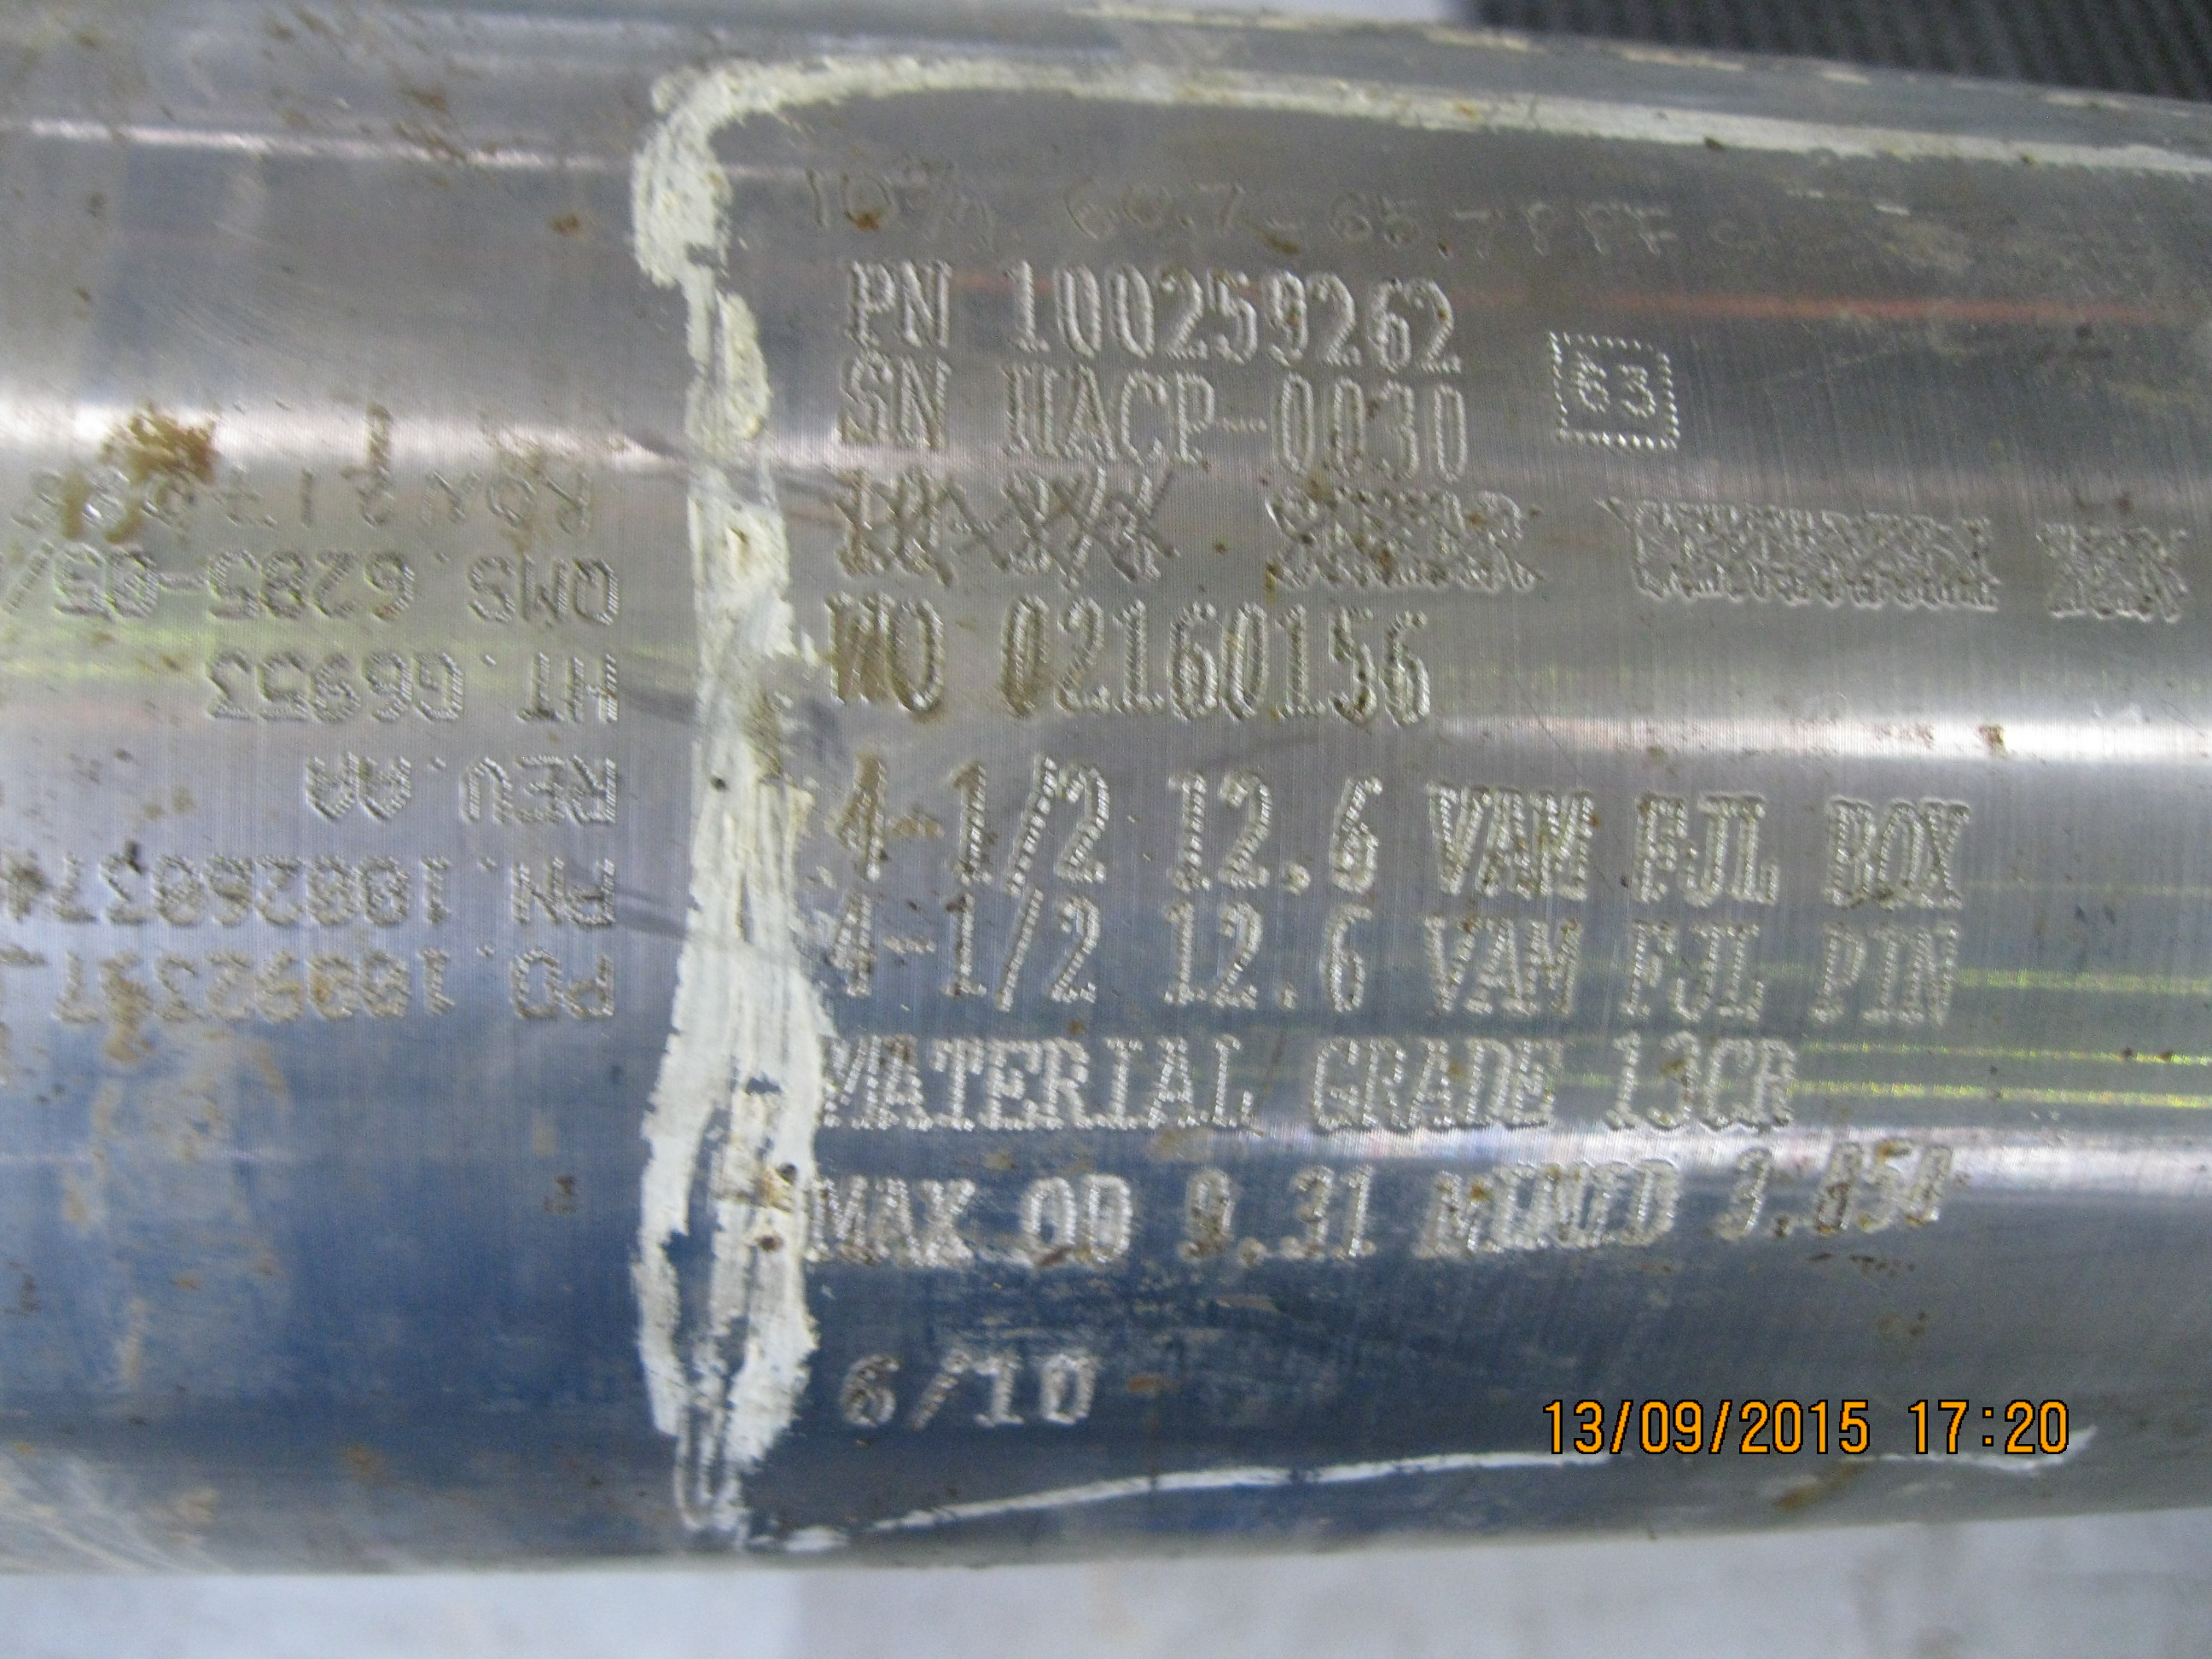character: (812, 877, 890, 1007), (820, 751, 897, 884), (819, 587, 894, 714), (1320, 770, 1390, 897), (1045, 889, 1115, 1014), (993, 591, 1061, 718), (1049, 756, 1115, 884), (1426, 769, 1489, 903), (1531, 782, 1601, 903), (1157, 762, 1216, 901), (1475, 777, 1540, 904), (1209, 890, 1271, 1021), (1217, 591, 1275, 730), (1414, 1162, 1491, 1267), (887, 591, 949, 718), (1416, 908, 1491, 1014), (1627, 786, 1688, 915), (1676, 788, 1742, 906), (1299, 256, 1366, 373), (1522, 911, 1590, 1025), (1324, 591, 1379, 728), (1320, 894, 1385, 1012), (1005, 753, 1059, 894), (1219, 762, 1277, 894), (1611, 913, 1679, 1025), (890, 345, 958, 455), (1716, 913, 1785, 1019), (1170, 598, 1226, 730), (944, 755, 1000, 887), (1925, 788, 1980, 918), (1106, 591, 1167, 709), (810, 1032, 881, 1133), (1733, 782, 1791, 908), (996, 354, 1062, 462), (1205, 249, 1264, 369), (1385, 601, 1442, 723), (890, 253, 961, 350), (911, 1169, 981, 1269), (989, 887, 1045, 1011), (900, 1345, 974, 1439), (1061, 354, 1118, 472), (979, 1033, 1045, 1136), (1825, 788, 1876, 922), (993, 253, 1055, 361), (1109, 361, 1174, 465), (1909, 918, 1966, 1035), (836, 343, 895, 457), (1057, 592, 1113, 713), (923, 1030, 984, 1140), (1752, 1032, 1818, 1131), (831, 1351, 906, 1438), (1017, 1169, 1078, 1276), (1174, 1161, 1235, 1267), (1299, 1035, 1366, 1133), (1104, 249, 1160, 364), (1811, 917, 1869, 1028), (1474, 910, 1527, 1028), (801, 1171, 869, 1265), (1052, 261, 1113, 366), (1275, 598, 1324, 728), (1076, 1171, 1141, 1269), (1508, 1033, 1575, 1127), (1670, 922, 1728, 1030), (836, 244, 895, 349), (935, 889, 988, 1007), (1204, 1028, 1263, 1133), (1413, 256, 1461, 380), (1874, 791, 1923, 913), (1275, 1159, 1331, 1265), (876, 1026, 934, 1129), (1651, 1030, 1709, 1133), (1712, 1143, 1770, 1246), (1144, 1035, 1202, 1136), (1273, 373, 1327, 479), (1374, 371, 1425, 484), (1521, 1159, 1583, 1249), (1155, 260, 1211, 361), (1035, 1349, 1104, 1429), (1324, 371, 1374, 481), (1367, 265, 1414, 382), (1096, 1033, 1148, 1138), (1167, 366, 1217, 474), (1263, 256, 1312, 368), (1454, 1035, 1510, 1133), (1411, 1033, 1465, 1133), (1040, 1032, 1092, 1133), (1157, 901, 1205, 1009), (862, 1173, 920, 1263), (1360, 1032, 1409, 1138), (1632, 1161, 1686, 1256), (1332, 1159, 1379, 1265), (1867, 917, 1909, 1033), (1430, 376, 1475, 483), (1867, 1133, 1911, 1239), (972, 1349, 1026, 1434), (1482, 1157, 1529, 1255), (1703, 1033, 1754, 1124), (1578, 1154, 1623, 1251), (1602, 1032, 1644, 1136), (1216, 403, 1271, 448), (1280, 850, 1324, 906), (1270, 972, 1313, 1026)
